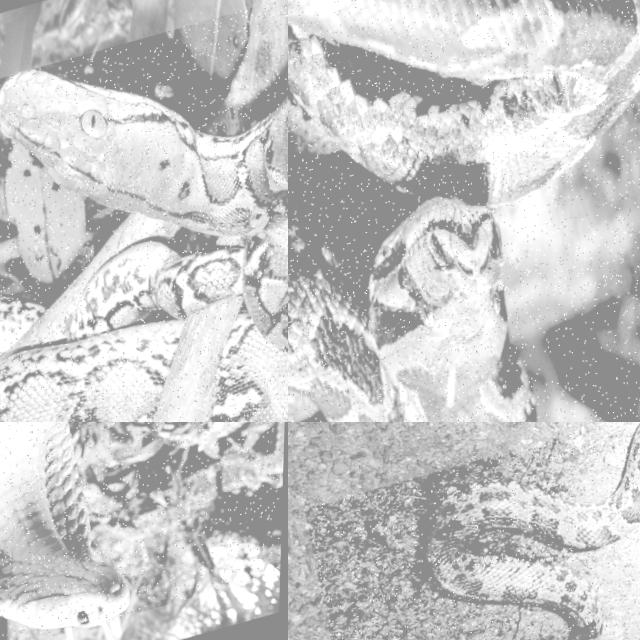Malayopython reticulatus: (0, 70, 287, 421)
Naja kaouthia: (0, 422, 128, 627)
Ovophis monticola: (420, 425, 639, 639)
Python bivittatus: (288, 0, 639, 421)
